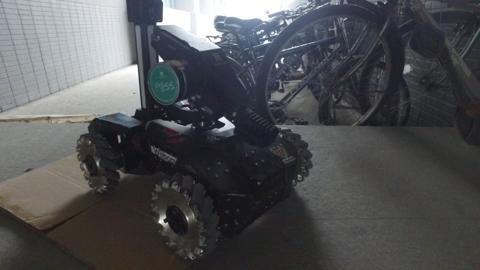bike: (197, 5, 457, 134)
chariot: (74, 3, 303, 249)
